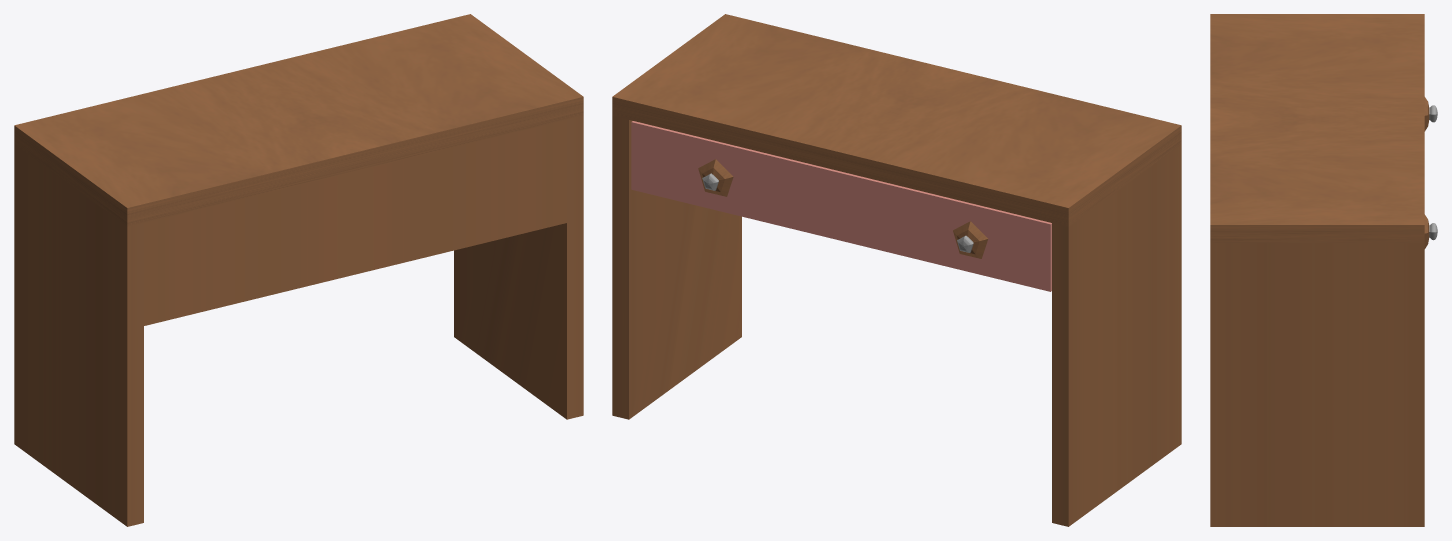
Rendered from escrivaninha.fbx.
3 renders of one model, left to right at view 1: azimuth 30°, elevation 25°; view 2: azimuth 150°, elevation 25°; view 3: azimuth 270°, elevation 25°, orthographic. The views are drawn at different scales.
Parts seen in each view (by area): view 1: Cube; view 2: Cube; view 3: Cube.
Part boxes in pixels (<box>): Cube: <box>14,14,583,526</box>; Cube: <box>612,14,1181,526</box>; Cube: <box>1210,14,1437,526</box>.
Bounding box in the file's own units: 4.66 × 2.12 × 3.11.
